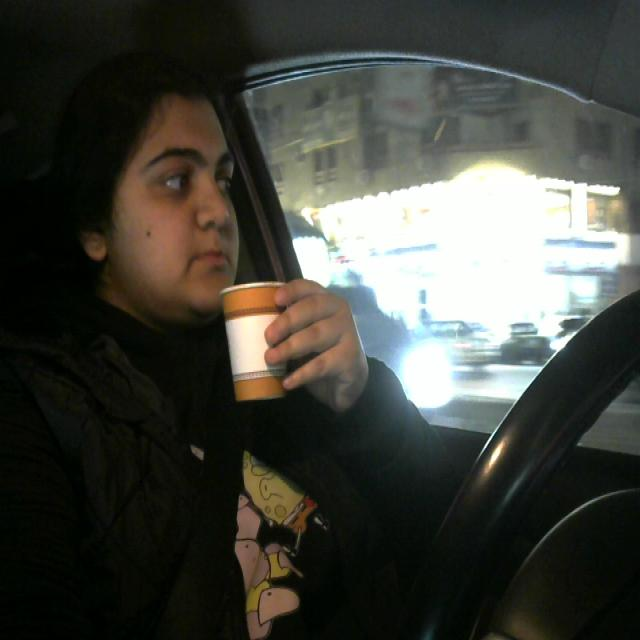drinking: (220, 274, 312, 416)
